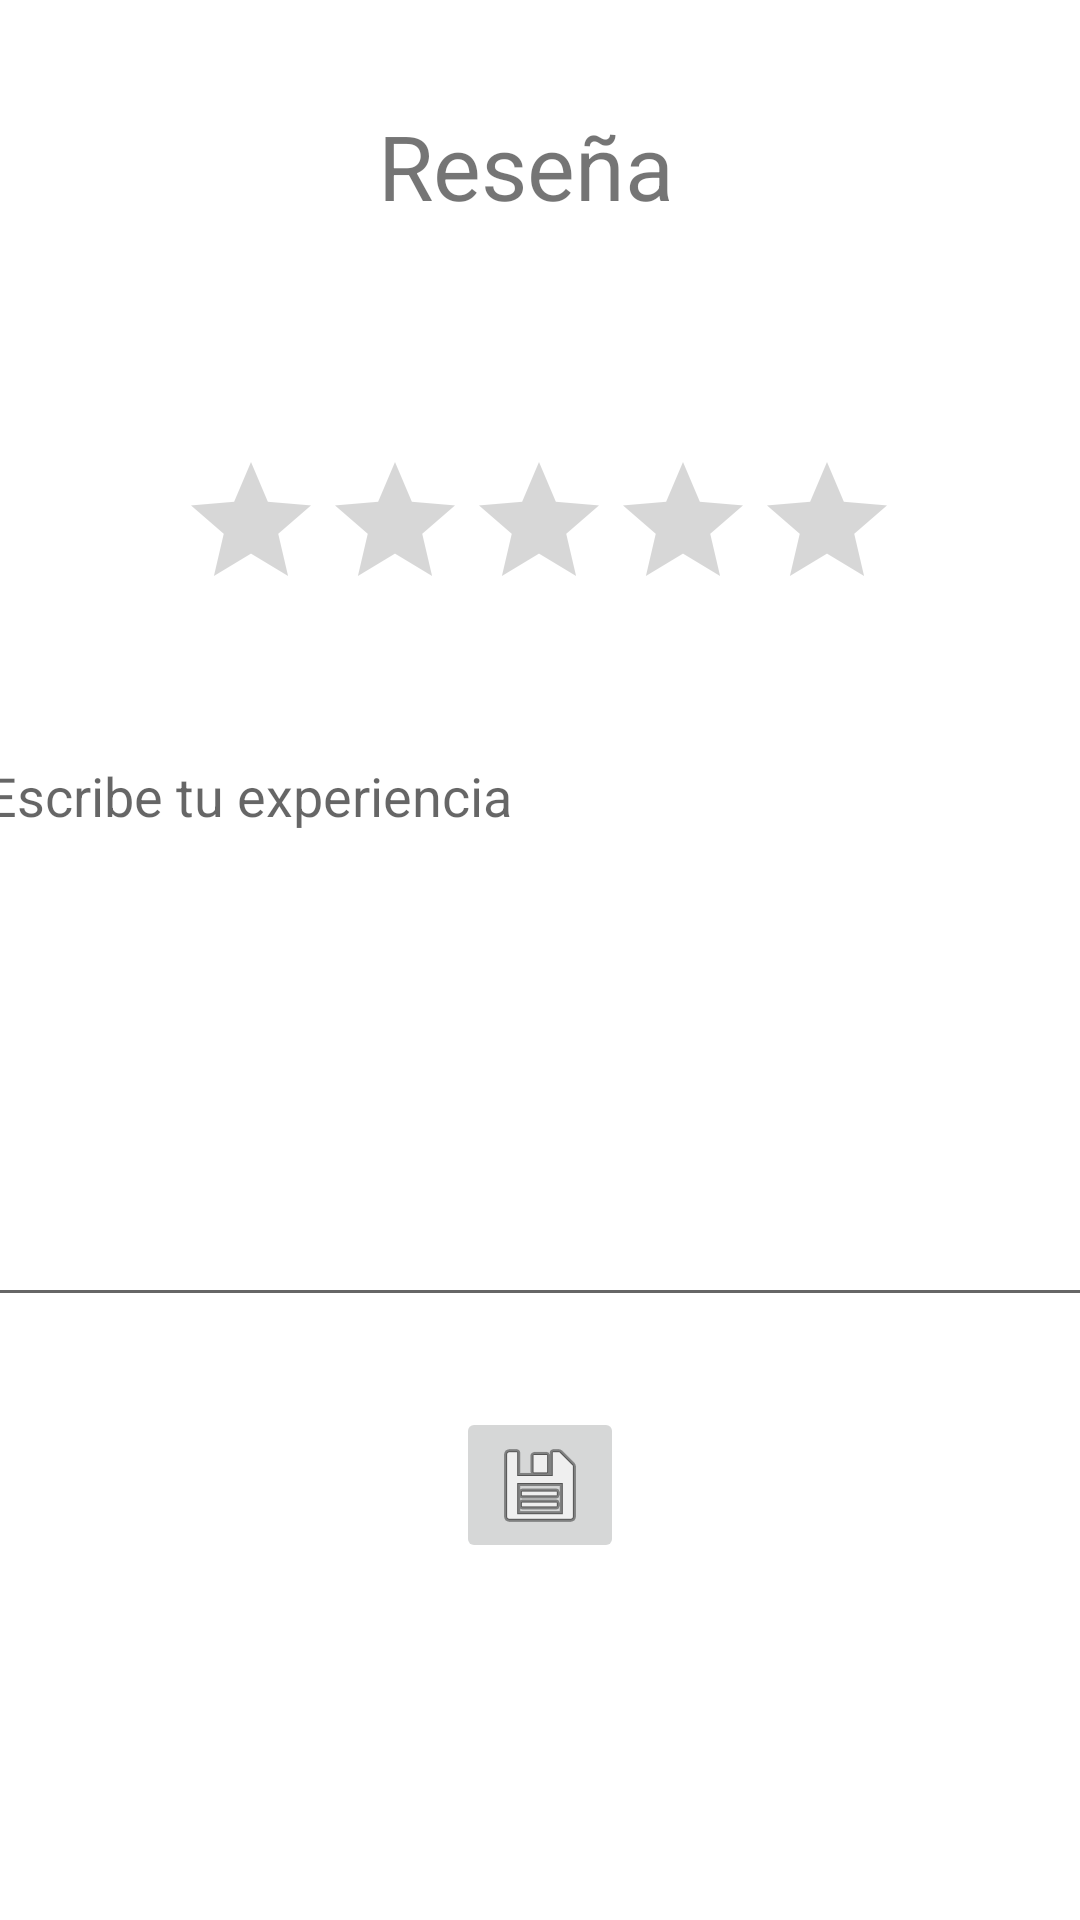

Named icons in this screenshot (1080px x 1920px) and their centers, point (x, y):
save: point (540, 1485)
